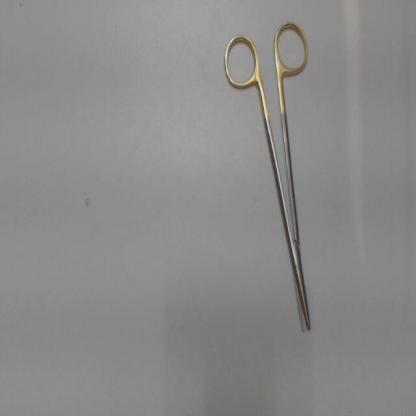7 Metzenbaum Scissors: (220, 14, 316, 338)
